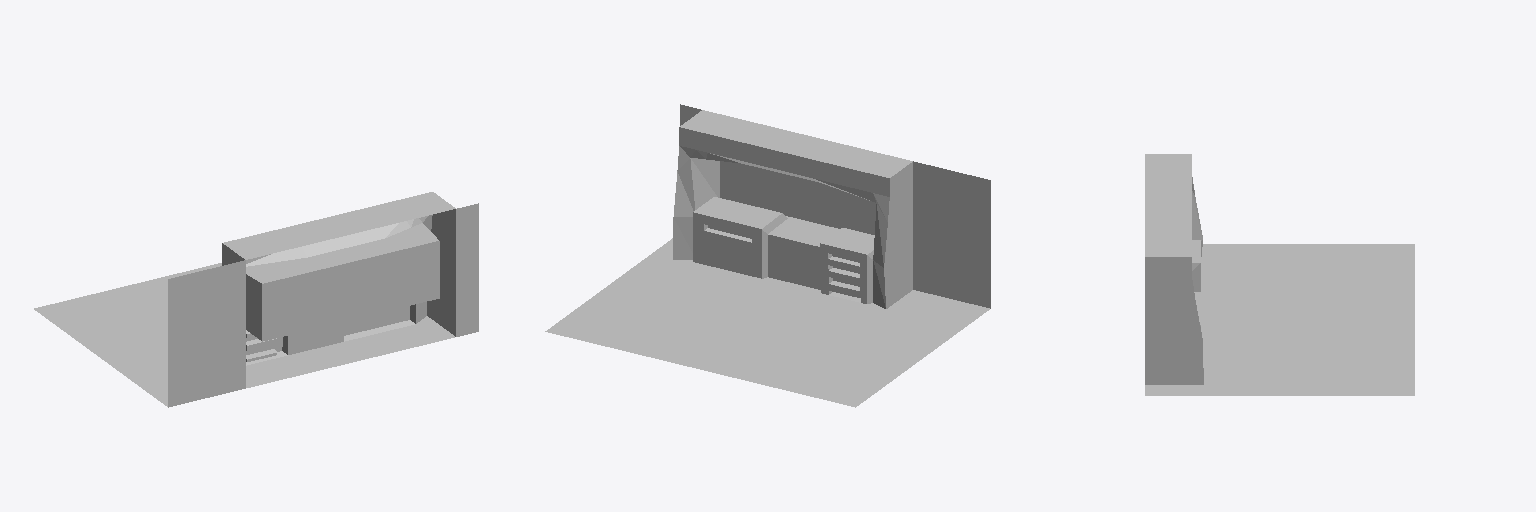
The model's file is Star ship interior.obj.
3 renders of one model, left to right at view 1: azimuth 30°, elevation 25°; view 2: azimuth 150°, elevation 25°; view 3: azimuth 270°, elevation 25°, orthographic.
Parts seen in each view (by area): view 1: space_ship_room; view 2: space_ship_room; view 3: space_ship_room.
Part boxes in pixels (bbox=[...]): space_ship_room: bbox=[34, 192, 478, 407]; space_ship_room: bbox=[545, 104, 990, 407]; space_ship_room: bbox=[1145, 154, 1414, 395].
Bounding box in the file's own units: 23.72 × 9.37 × 17.85.